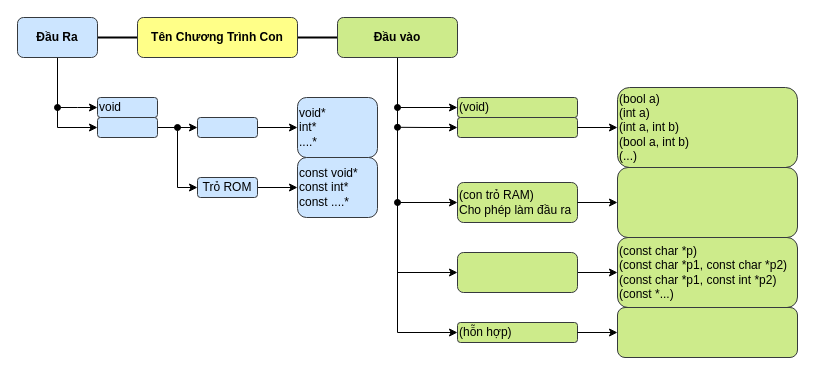
Some shapes in this 815 by 375 pixel diagram are drawn without their labels. Here are the shapes that lost their labels. From the top down, the centre of each, then its label:
At [127,127]: "con trỏ".
At [227,127]: "Trỏ RAM".
At [517,127]: "(kiểu biến)".
At [707,202]: "(char *p) (char *p1, char *p2) (char *p1, int *p2) (...)".
At [517,272]: "(con trỏ ROM) Chỉ làm đầu vào".
At [707,332]: "(int a, char *out, const *in) (...)".
